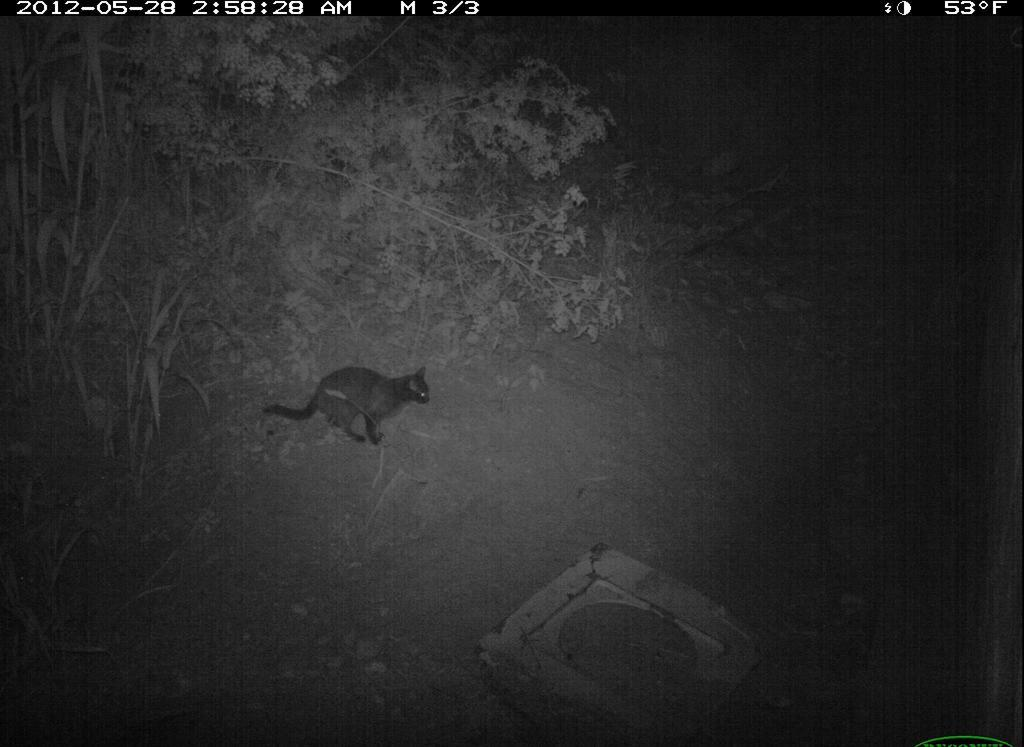cat: (260, 361, 437, 451)
